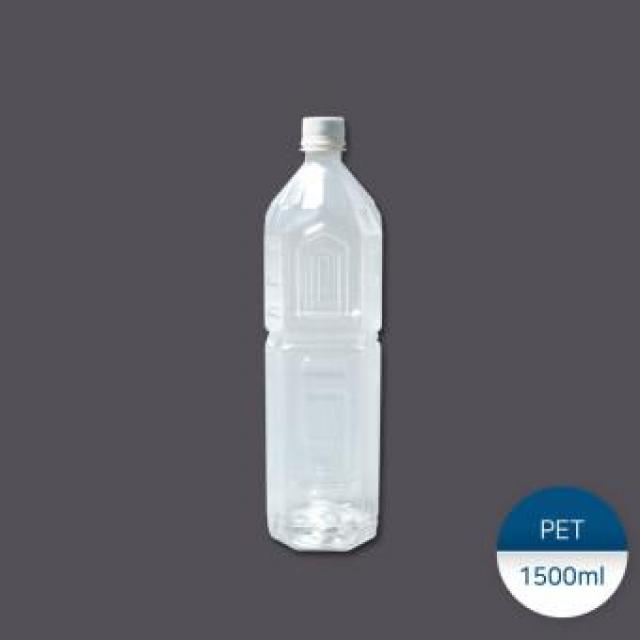bottle: (242, 89, 405, 626), (245, 91, 402, 577)
